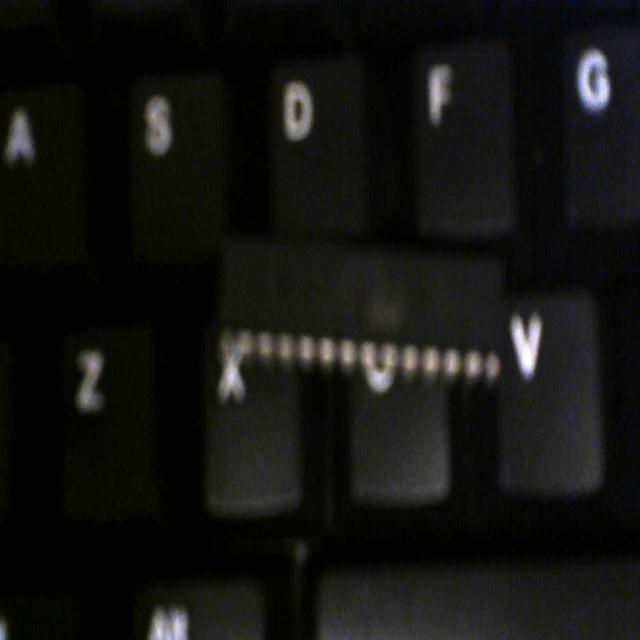atmega: (211, 226, 518, 403)
